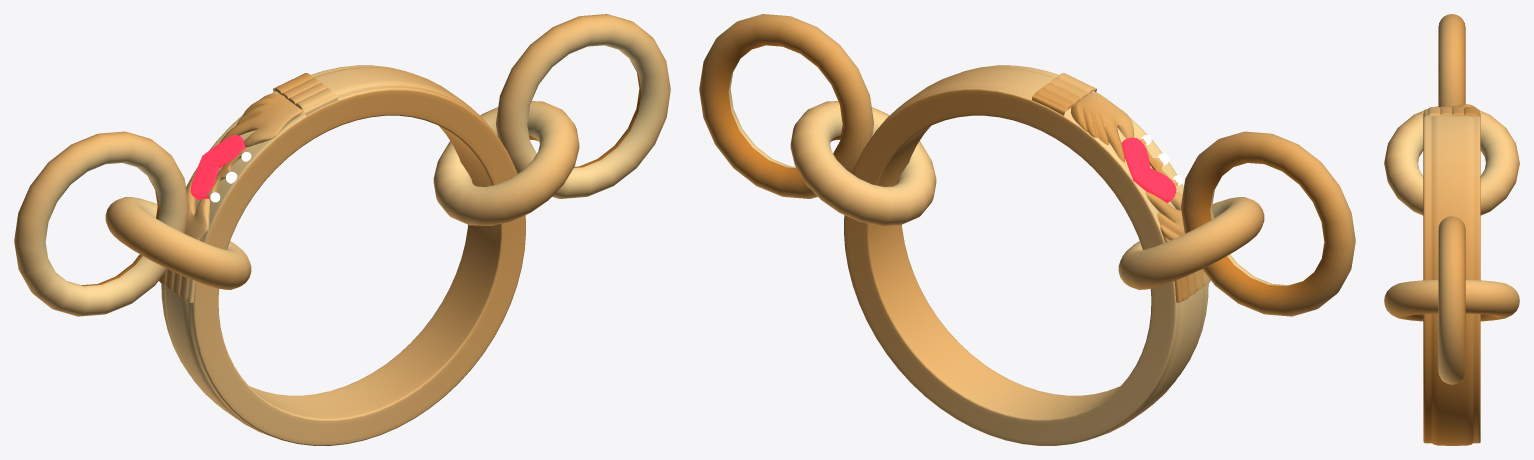
Rendered from hashigo_r_c.fbx.
3 views of the same model, side by side, from view 1: azimuth 30°, elevation 25°; view 2: azimuth 150°, elevation 25°; view 3: azimuth 270°, elevation 25° (orthographic). The views are drawn at different scales.
Parts seen in each view (by area): view 1: polySurface4; view 2: polySurface4; view 3: polySurface4.
Boxes of the visible parts, x1,y1,x2,y2 form: polySurface4: (14,14,670,445); polySurface4: (699,14,1355,445); polySurface4: (1384,14,1519,445).
Size of the model in its own units: 19.09 by 9.99 by 4.
